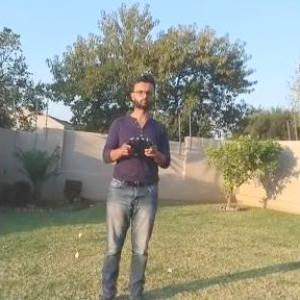follow: (98, 70, 180, 299)
